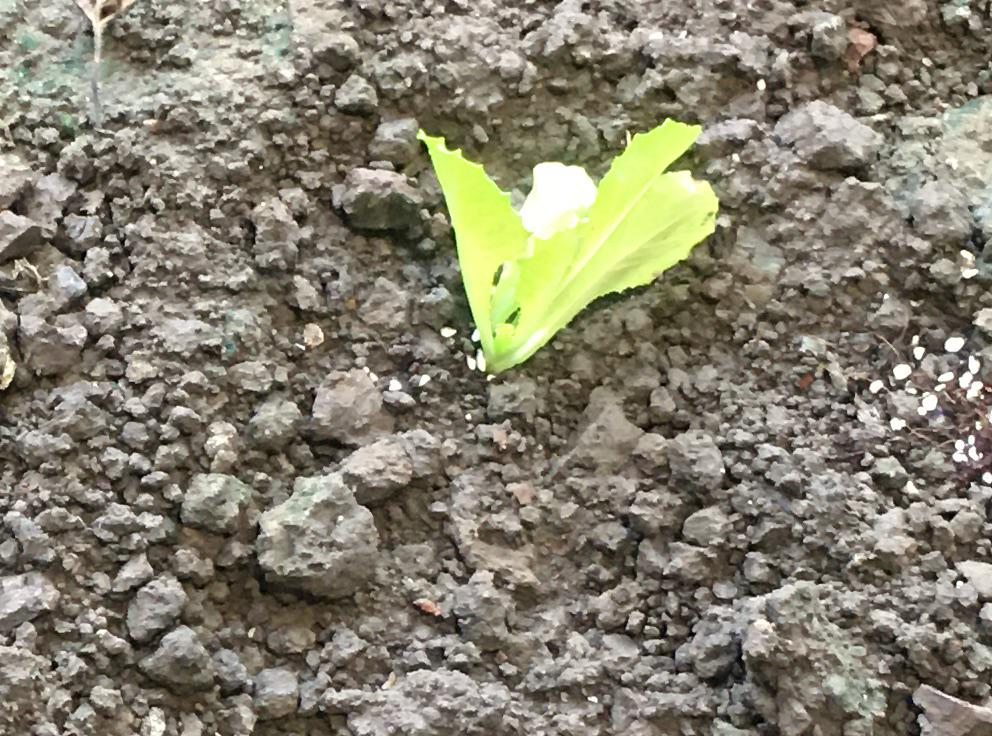block: (249, 468, 374, 599)
